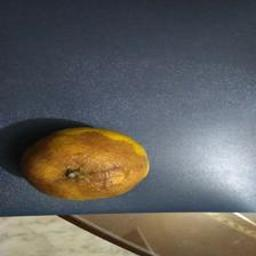Orange Rotten: (8, 126, 151, 203)
